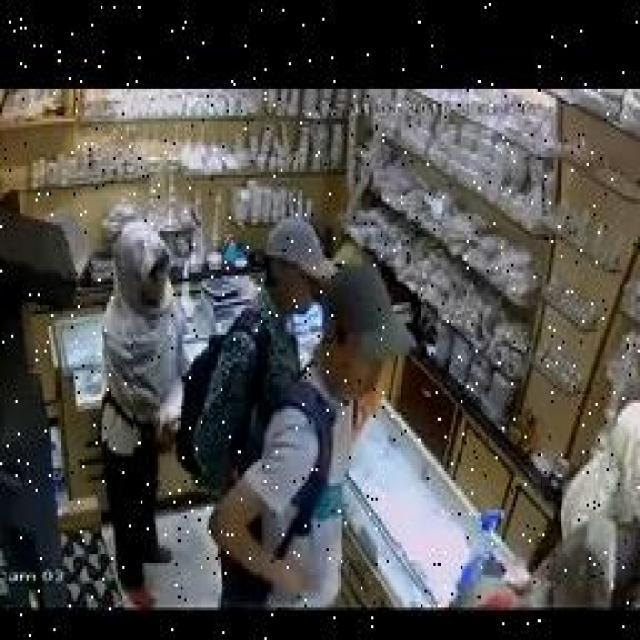Shoplifting: (87, 185, 432, 599)
